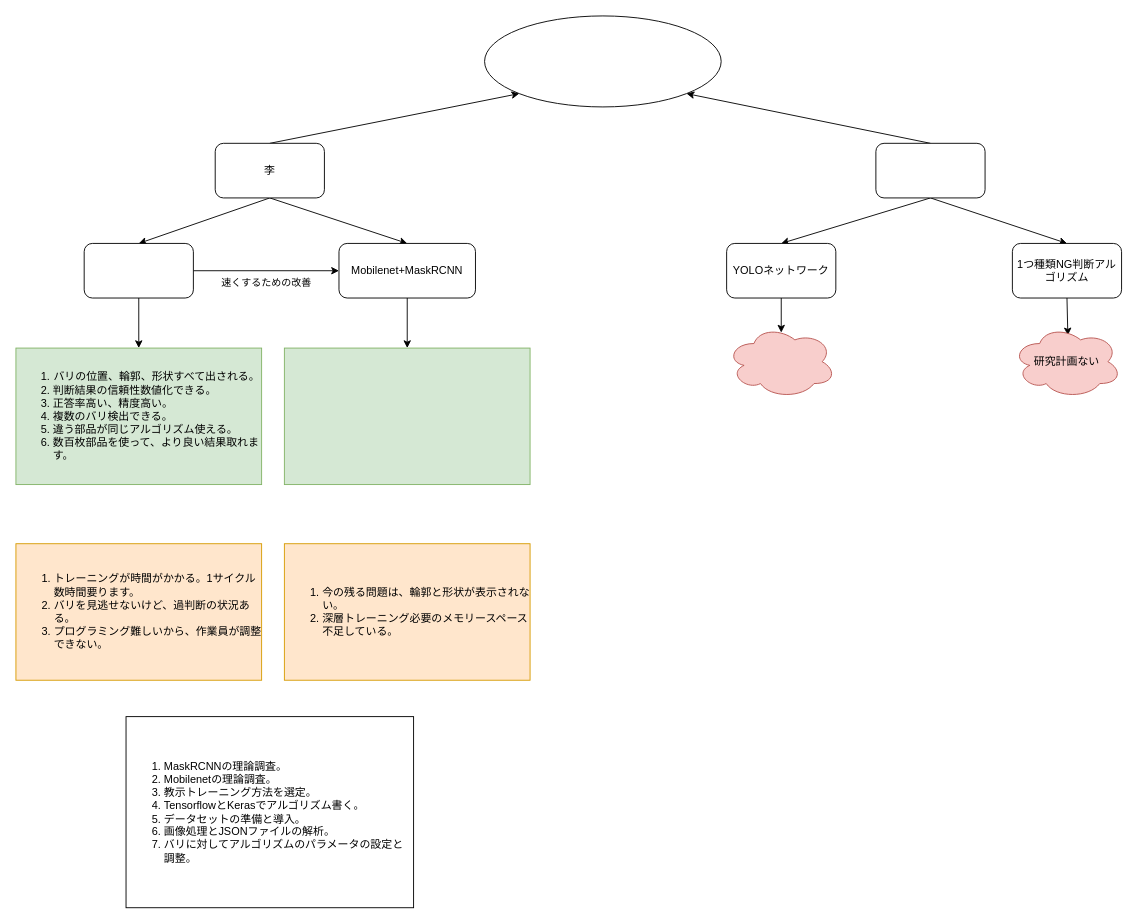
Some shapes in this 1138 by 924 pixel diagram are drawn without their labels. The centre of each missing label's shape, as x and y in pixels:
"MaskRCNN" goes at [138,270].
"バリ認識アルゴリズム開発" goes at [602,61].
"原型より速い。 正答率同等、精度同等。" goes at [406,416].
"失敗" goes at [781,361].
"田中先生" goes at [930,170].
